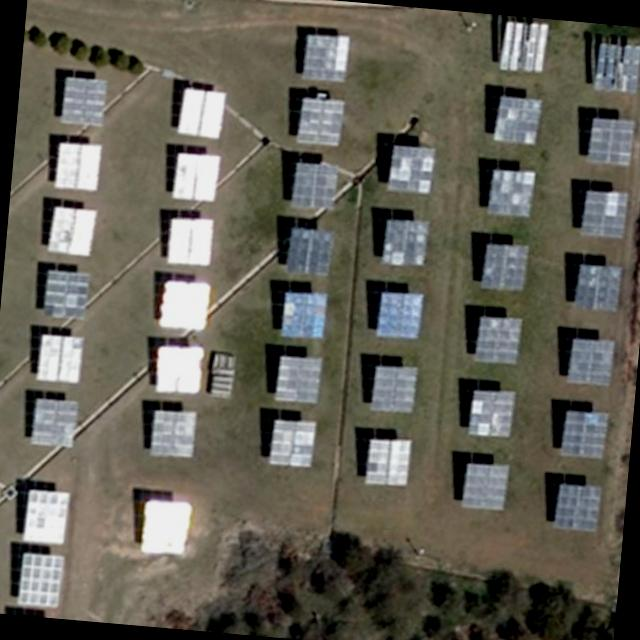solar: (139, 498, 194, 556), (459, 453, 512, 512), (12, 550, 64, 610), (18, 486, 68, 548), (175, 83, 228, 140), (266, 413, 318, 470), (556, 404, 608, 460), (290, 157, 342, 213), (363, 428, 413, 486), (478, 237, 530, 292), (551, 477, 602, 533), (27, 394, 77, 451), (579, 184, 628, 242), (52, 136, 100, 195), (164, 212, 216, 266), (484, 165, 536, 219), (298, 30, 350, 84), (286, 223, 336, 279), (380, 212, 430, 268), (586, 112, 636, 168), (159, 278, 212, 330), (500, 19, 550, 74), (473, 310, 522, 366), (272, 354, 324, 406), (45, 203, 95, 257), (294, 96, 348, 146), (368, 360, 417, 414), (32, 331, 80, 386), (593, 39, 640, 95), (172, 148, 222, 200), (278, 286, 328, 338), (571, 259, 621, 311), (492, 94, 544, 144), (386, 142, 436, 194), (148, 408, 196, 462), (58, 74, 108, 124), (40, 266, 88, 318), (154, 342, 202, 394), (566, 334, 614, 386), (468, 387, 516, 438), (375, 288, 421, 339)
